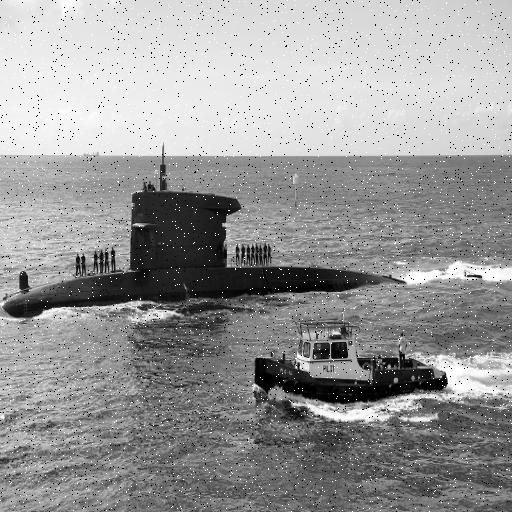submarine: (1, 145, 411, 316)
